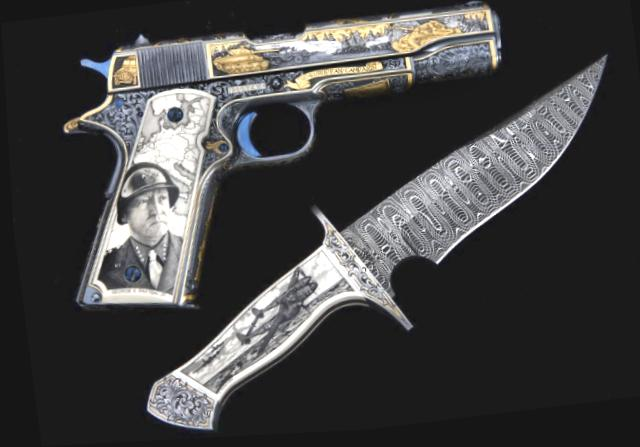pistol: (31, 0, 531, 319)
